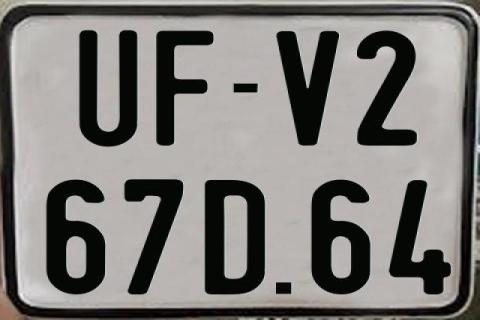0: (386, 179, 453, 296), (124, 177, 189, 292), (45, 180, 107, 298), (357, 29, 420, 145), (308, 180, 368, 298)
D: (204, 179, 269, 296)
F: (155, 29, 215, 149)
U: (78, 28, 136, 146)
V: (274, 29, 338, 143)
